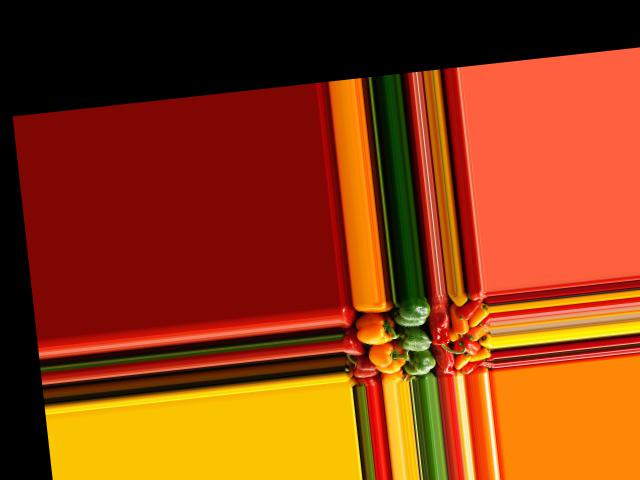bell_pepper: (456, 296, 485, 321)
